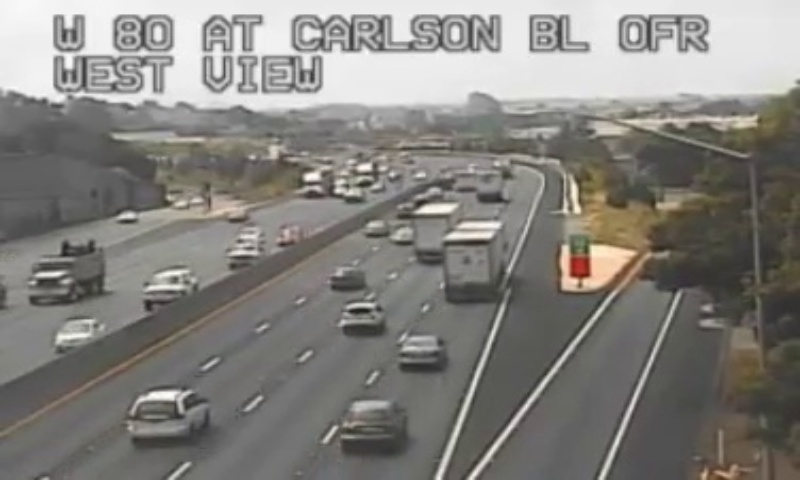car: (126, 389, 209, 438), (340, 400, 404, 445), (397, 335, 442, 366), (339, 301, 383, 330), (328, 267, 362, 288)
truck: (442, 220, 504, 299), (412, 202, 461, 258)
